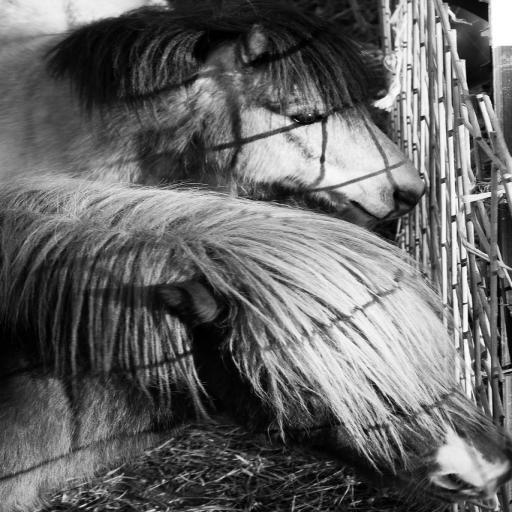horse: (0, 169, 512, 512), (0, 0, 428, 230)
